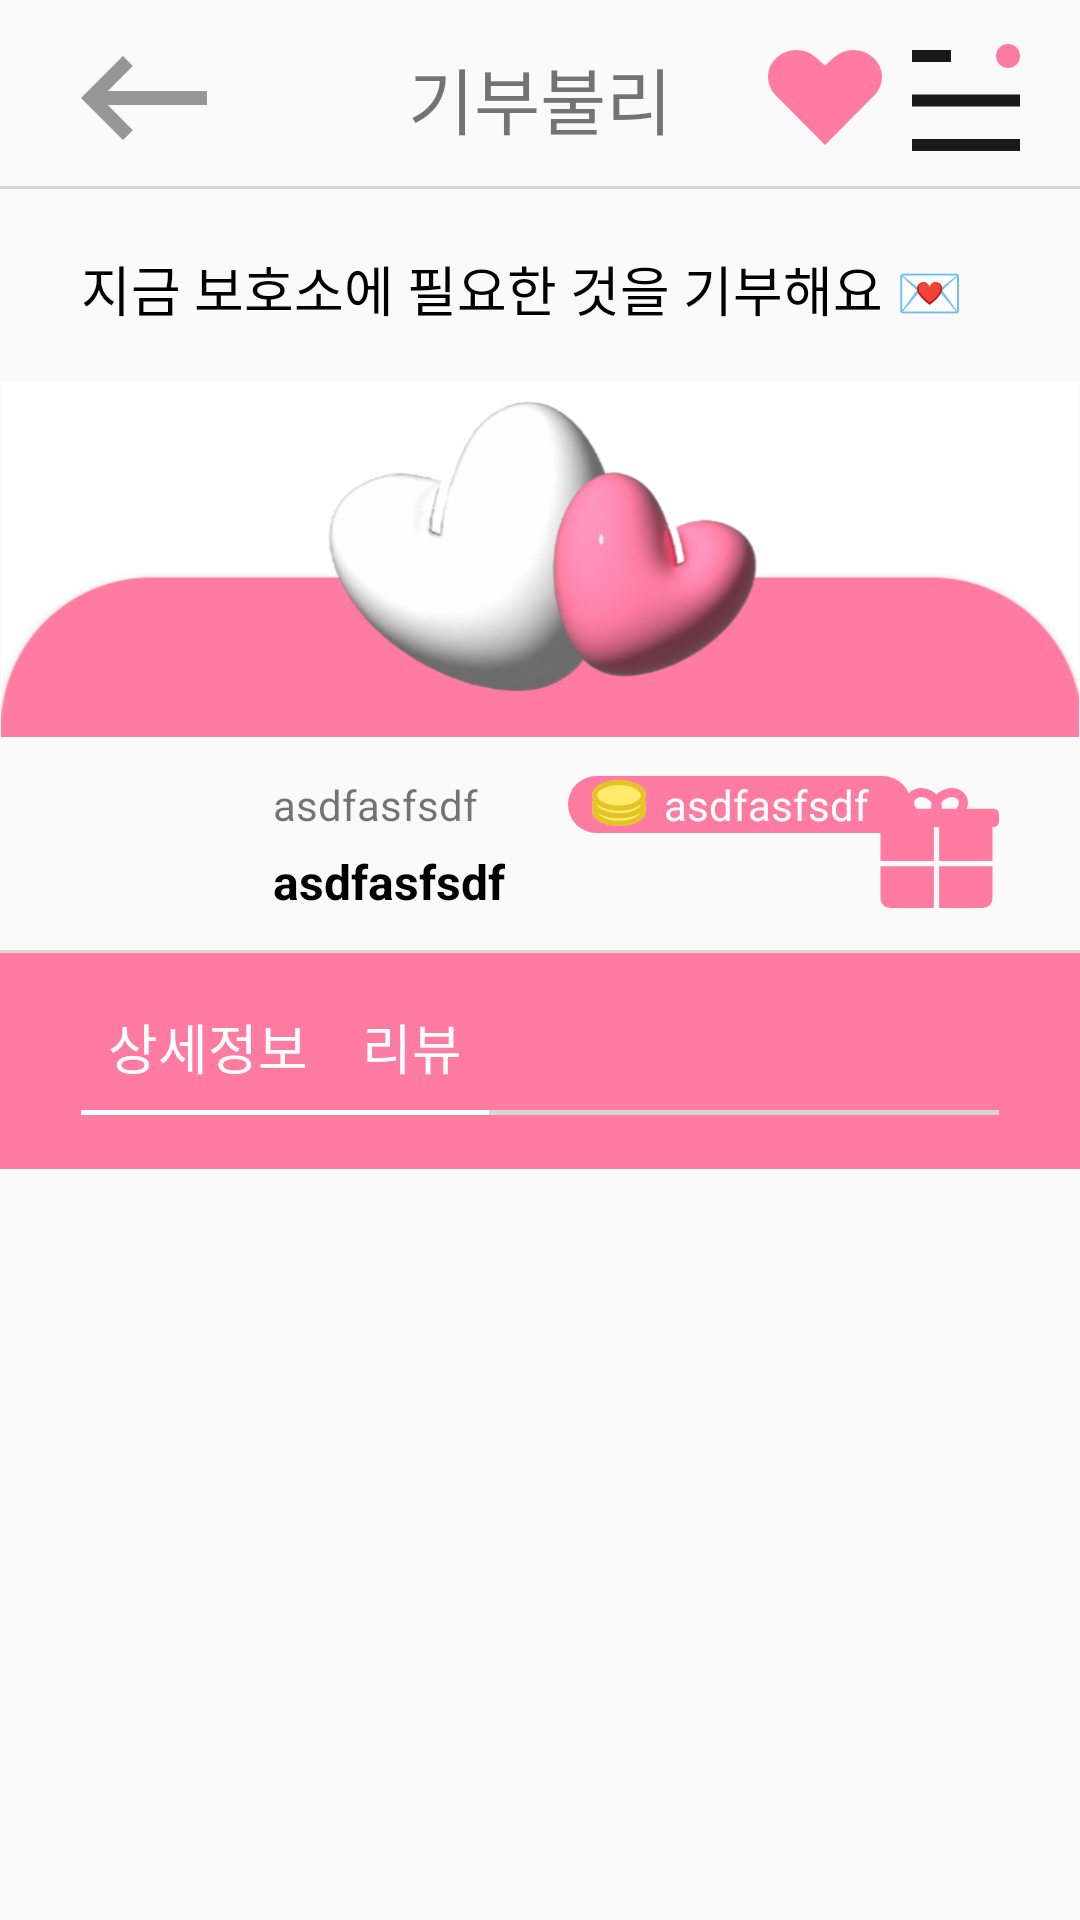

Where to tap for icons on this 1080×1920 app screen, as [x,y]:
back: [144,98]
coin: [619,803]
donate: [936,845]
heart: [825,97]
menu: [966,97]
